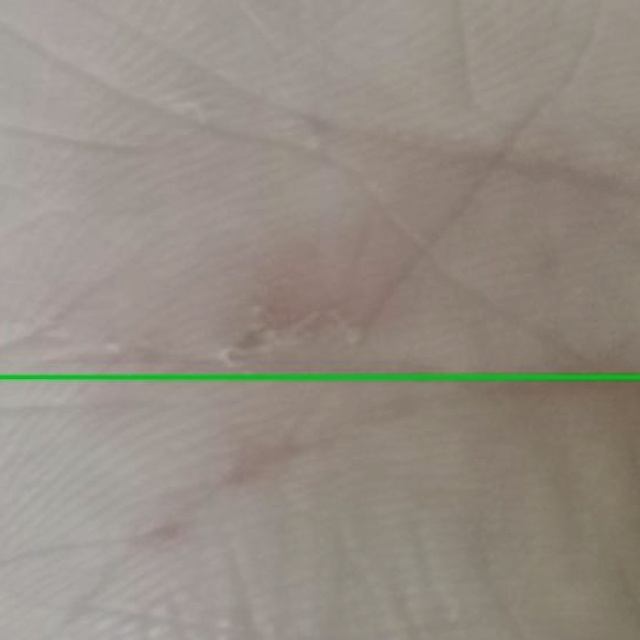Scabies: (0, 0, 639, 377)
